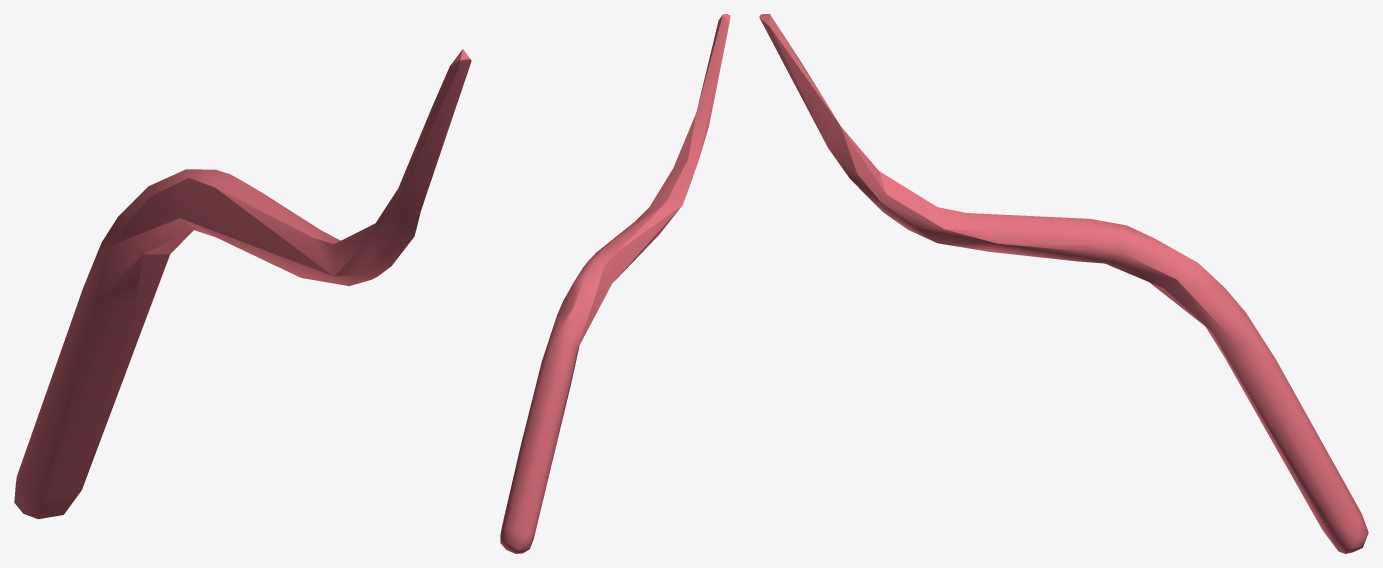
Rendered from fma51307_fj4685.glb.
3 renders of one model, left to right at view 1: azimuth 30°, elevation 25°; view 2: azimuth 150°, elevation 25°; view 3: azimuth 270°, elevation 25°, orthographic. The views are drawn at different scales.
Parts seen in each view (by area): view 1: FMA51307_FJ4685; view 2: FMA51307_FJ4685; view 3: FMA51307_FJ4685.
Part boxes in pixels (x1,y1,x2,y2): FMA51307_FJ4685: [14, 49, 471, 519]; FMA51307_FJ4685: [500, 14, 730, 553]; FMA51307_FJ4685: [759, 14, 1368, 553].
Bounding box in the file's own units: 0.00137 × 0.0163 × 0.0167.
